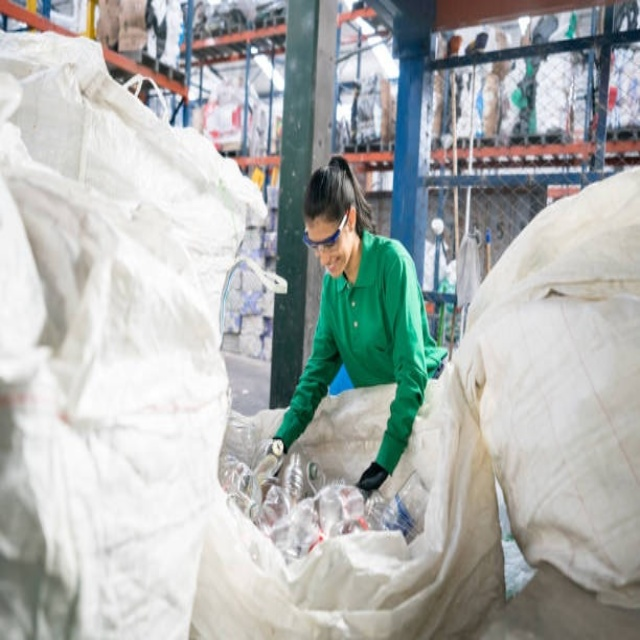Gafas: (303, 209, 349, 249)
Guantes: (357, 461, 389, 492)
Sin_mascara: (323, 256, 343, 279)
